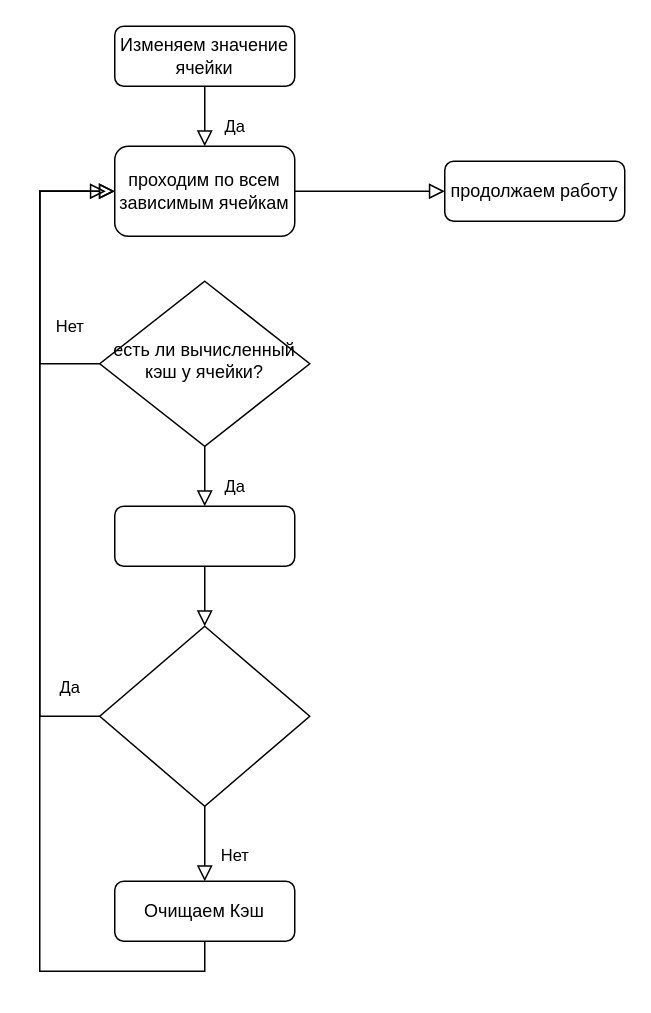
This 651x1013 diagram has some shape labels left out. Each missing label, with the centre of its shape:
"Вычисляем новое значение ячейки" goes at [204,535].
"Новое значение равно тому, что хранится в кэше?" goes at [204,715].
